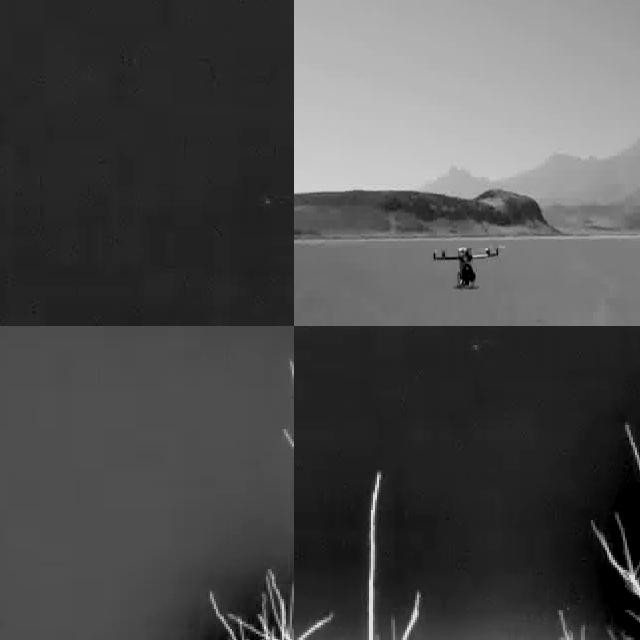0: (253, 191, 277, 219), (464, 335, 484, 363)
drone: (431, 246, 503, 294)
